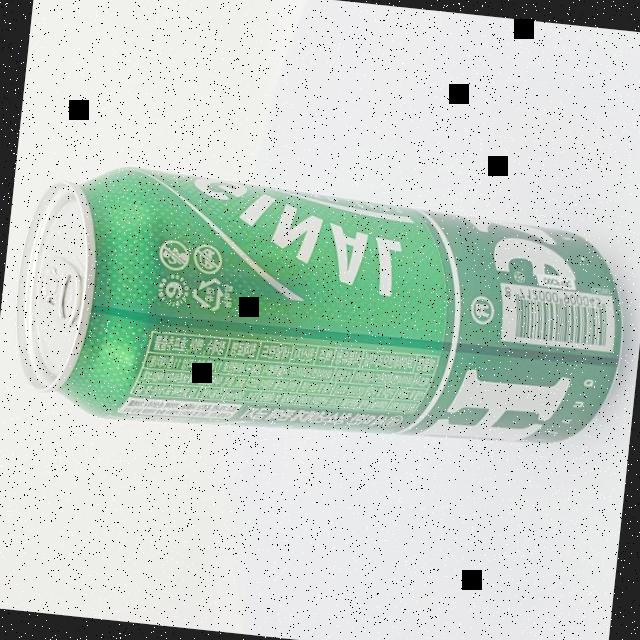can: (2, 156, 635, 472)
